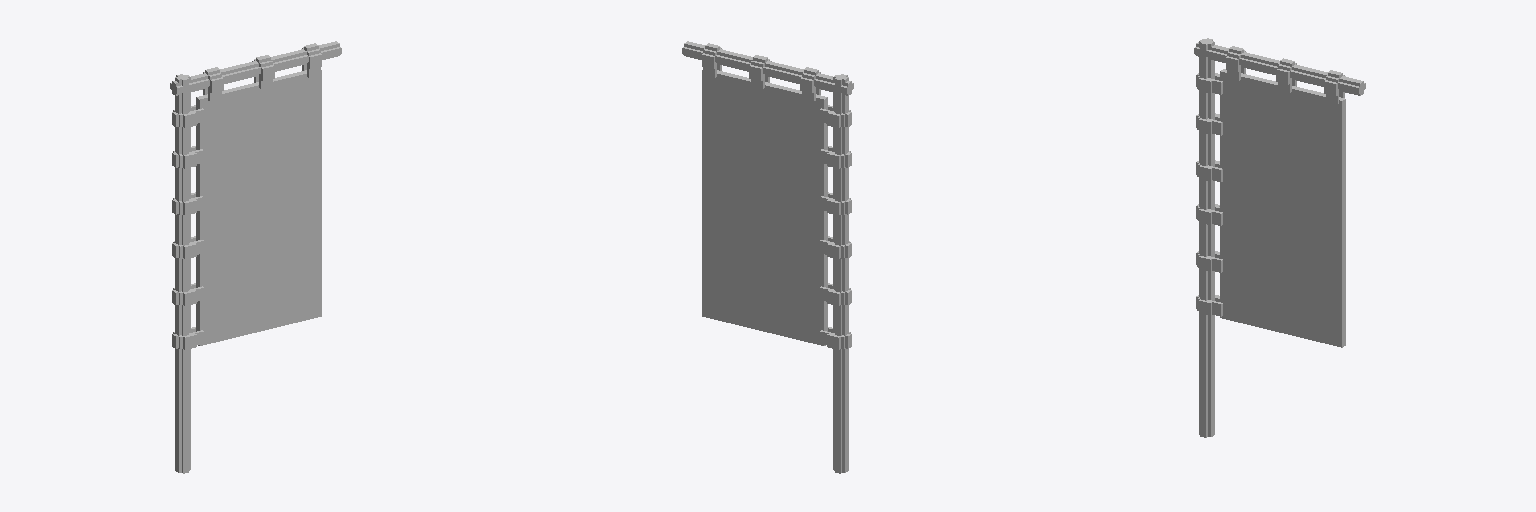
Rendered from Bannière.obj.
The picture shows the model from 3 angles: view 1: azimuth 30°, elevation 25°; view 2: azimuth 150°, elevation 25°; view 3: azimuth 330°, elevation 25°; orthographic projection.
Visible parts, largest first — view 1: object 1; view 2: object 1; view 3: object 1.
Boxes of the visible parts, x1=… form: object 1: x1=170, y1=41, x2=341, y2=473; object 1: x1=682, y1=41, x2=853, y2=473; object 1: x1=1194, y1=38, x2=1365, y2=437.
Size of the model in its own units: 5.5 by 12.6 by 0.6.